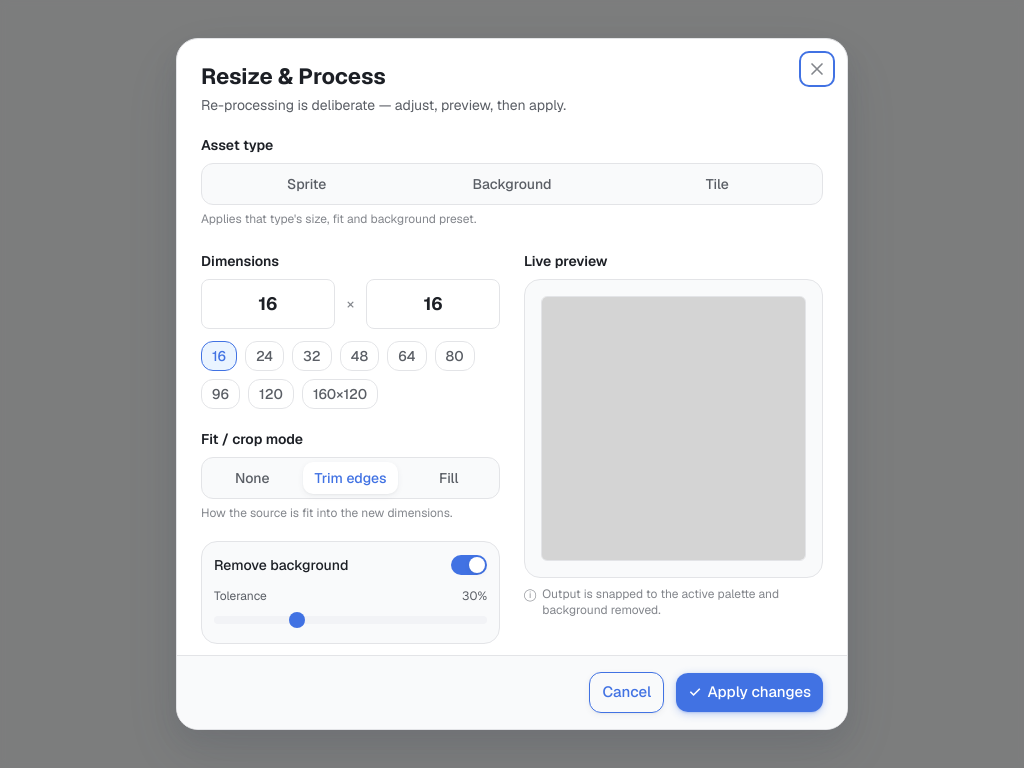
ResizeProcessModal — asset-type presets › clicking a modal tab applies that type's preset
Expected: the field named "Width" is enabled, [201,279,335,329]
# Pick Background in the modal → applies the preset + locks to 160×120.
Click the radio button labelled "Background".
click(512, 184)  # box [411,168,613,200]
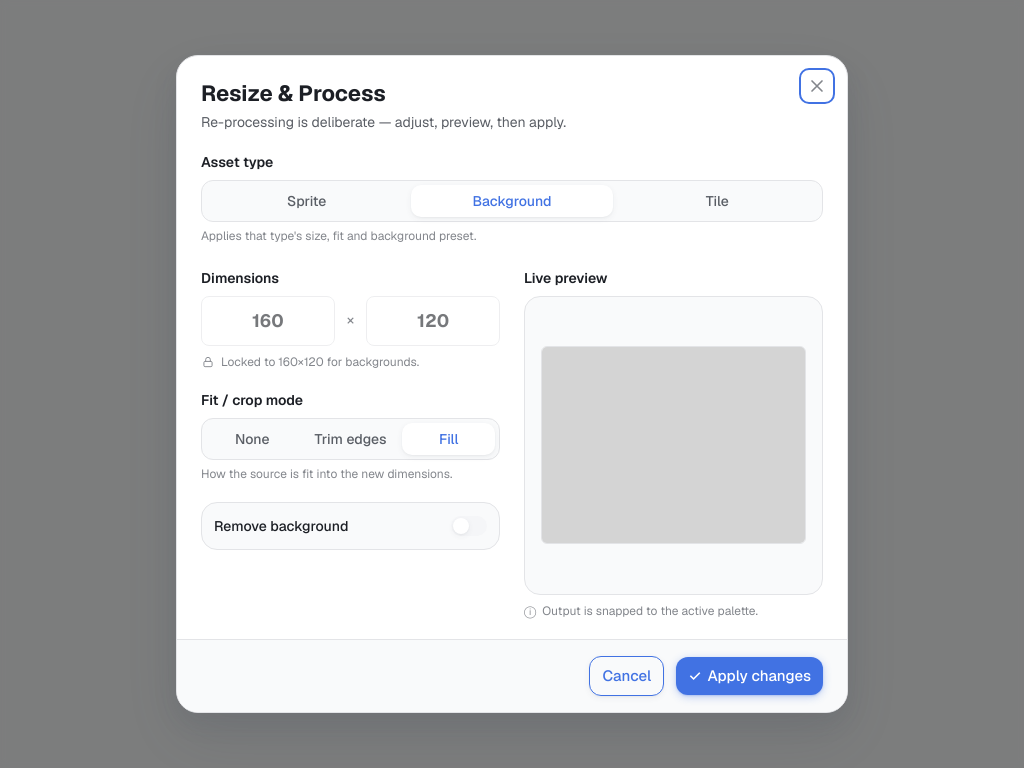
Expected: the field named "Width" holds "160", [201,296,335,346]
Expected: the field named "Width" is disabled, [201,296,335,346]
Expected: the text "Locked to 160×120 for backgrounds." is shown, [201,354,419,370]
